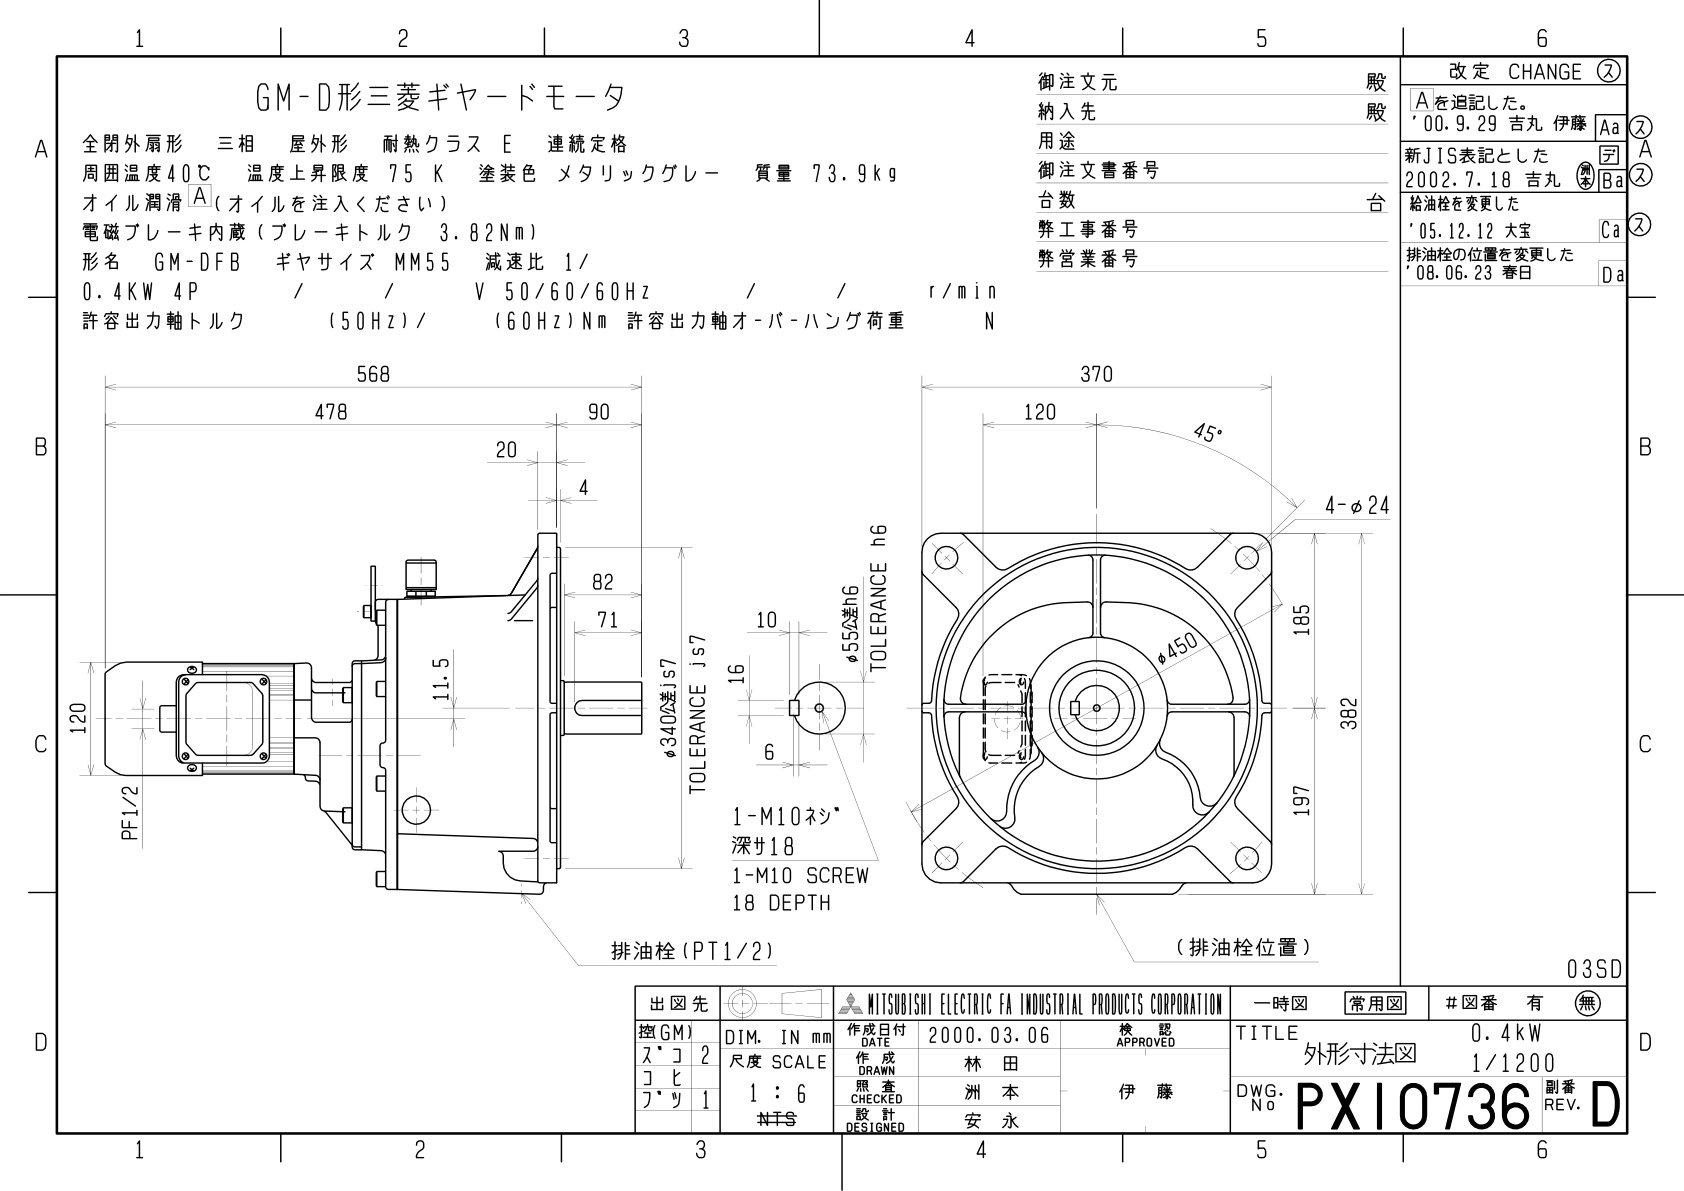GM_D_屋外＿三相_フランジ: (58, 347, 1395, 967)
